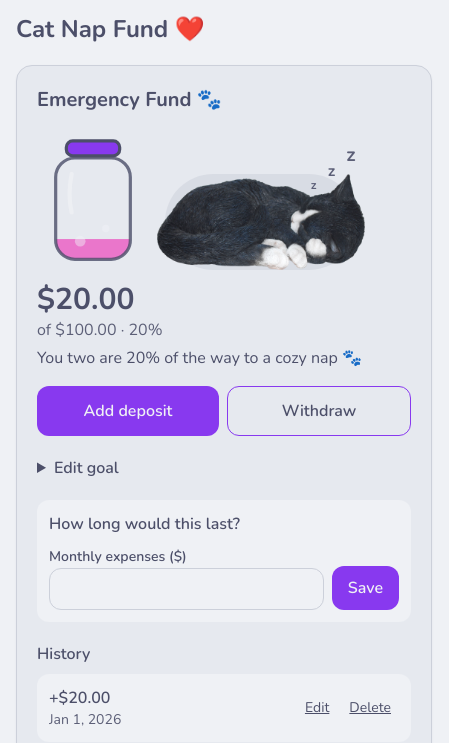
Test case: dashboard › celebrates when a milestone is crossed, not on load
Check: the text "Milestone reached" is not shown
Click the button "Add deposit": (128, 411) [37,386,219,436]
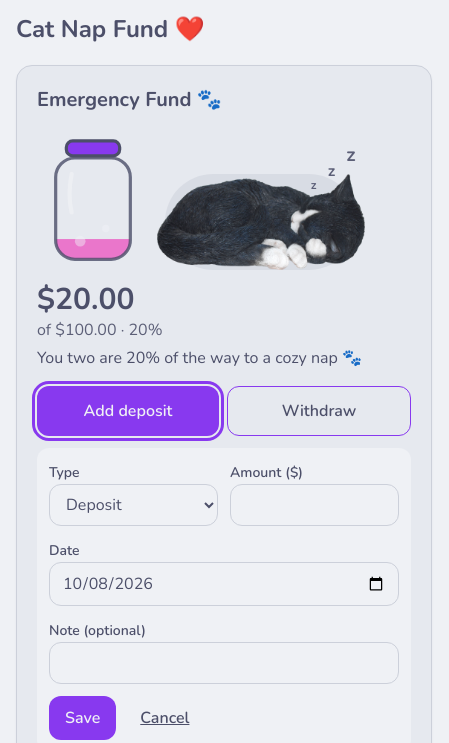
In the field labelled "Amount ($)": (314, 505) [230,484,399,526], type "10"
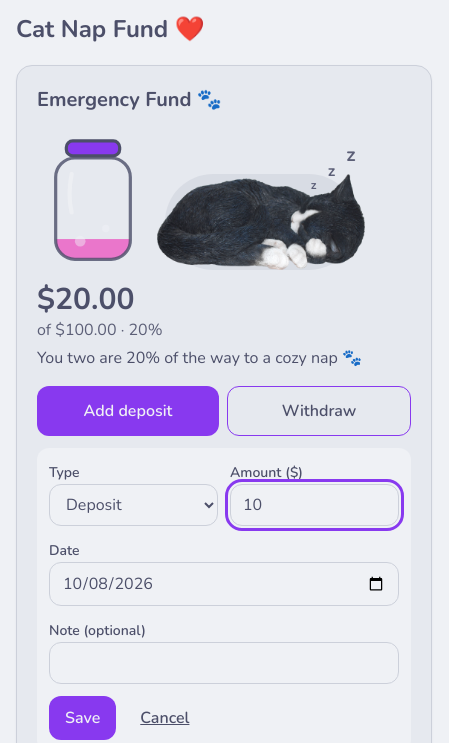
Click the button "Save": (83, 718) [49,696,116,740]
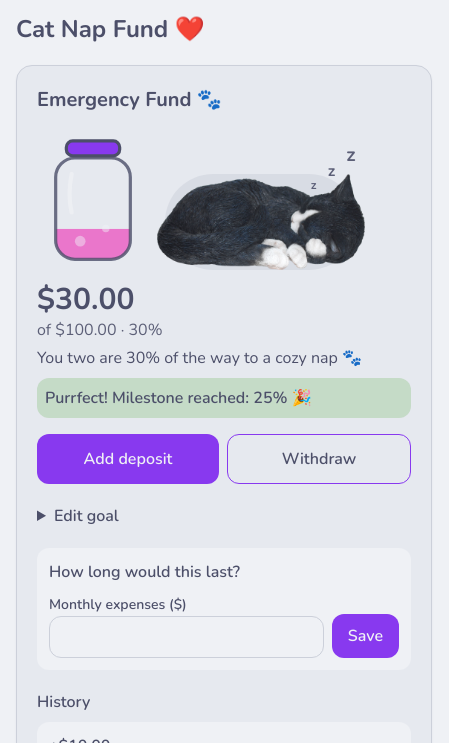
Check: the text "Purrfect! Milestone reached: 25% 🎉" is shown, box [37,378,411,418]
